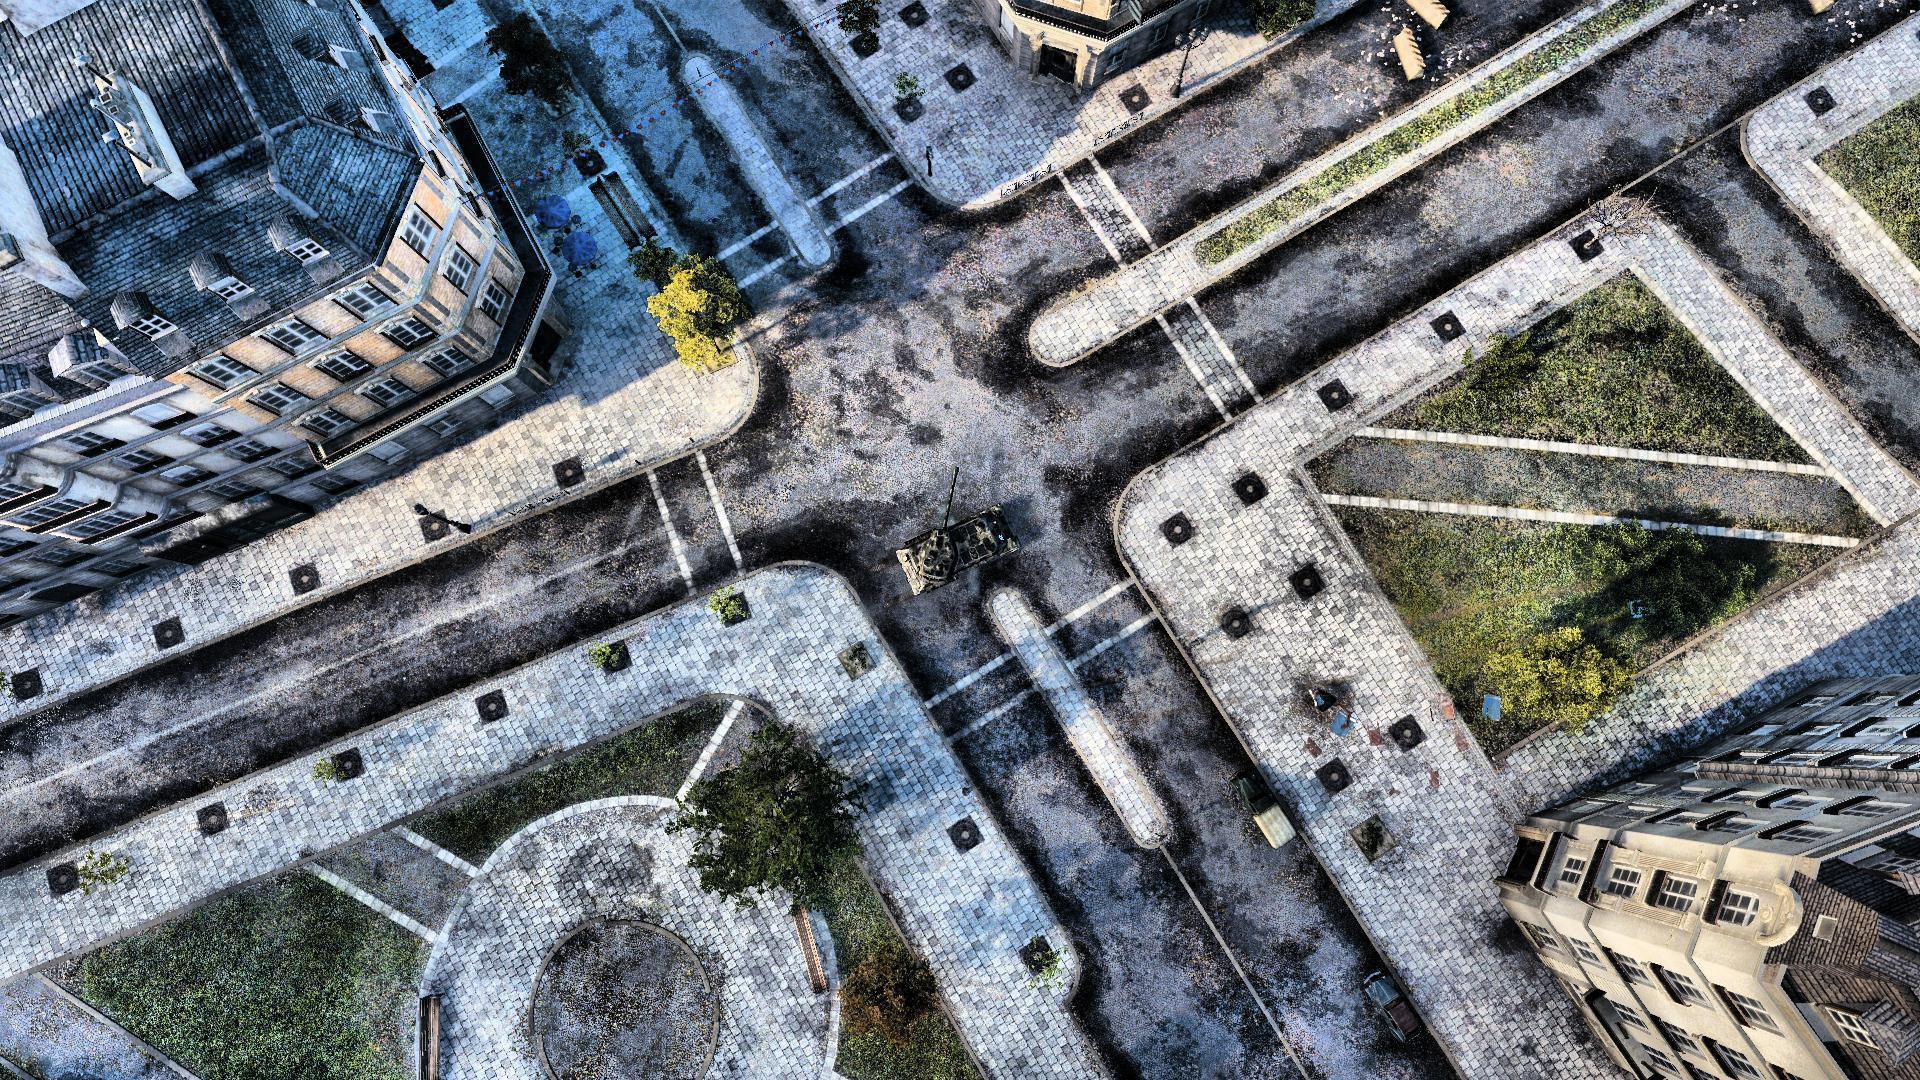military-vehicle: (893, 465, 1021, 593)
